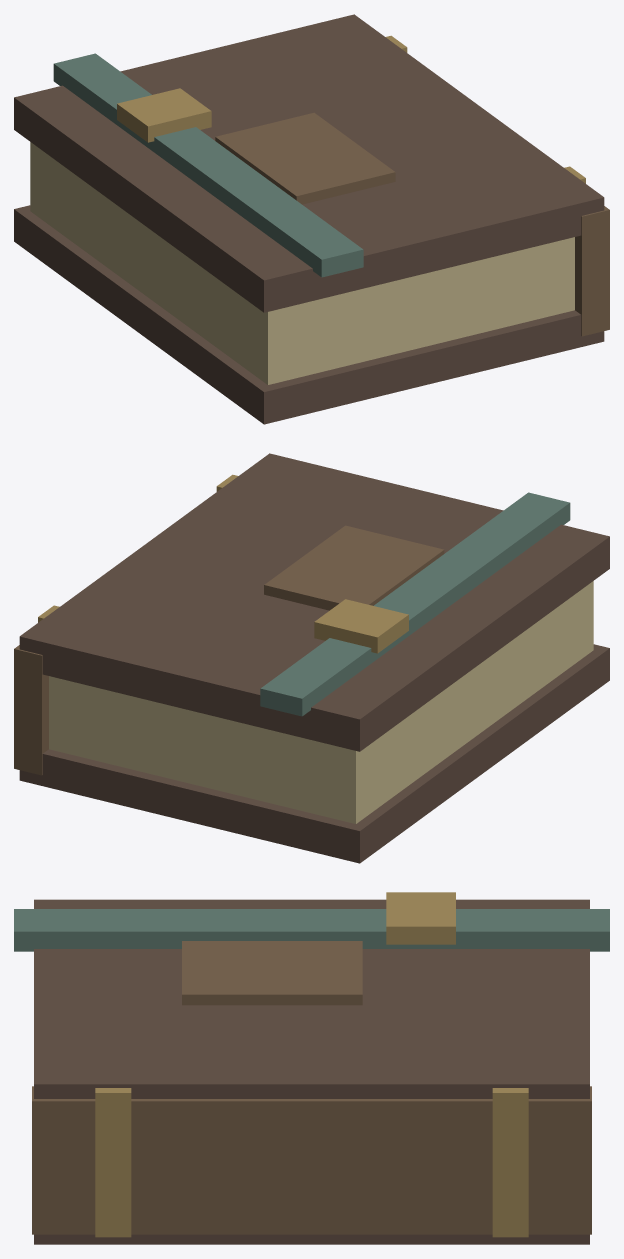
The model's file is SWP_CaptainsLog.fbx.
The picture shows the model from 3 angles, top to bottom: view 1: azimuth 30°, elevation 25°; view 2: azimuth 150°, elevation 25°; view 3: azimuth 270°, elevation 25°; orthographic projection. The views are drawn at different scales.
Parts seen in each view (by area): view 1: SWP_CaptainsLog; view 2: SWP_CaptainsLog; view 3: SWP_CaptainsLog.
Boxes of the visible parts, left/top/right/bottom form: SWP_CaptainsLog: left=14, top=14, right=609, bottom=424; SWP_CaptainsLog: left=14, top=453, right=609, bottom=863; SWP_CaptainsLog: left=14, top=892, right=609, bottom=1244.
Size of the model in its own units: 0.226 by 0.106 by 0.3.
